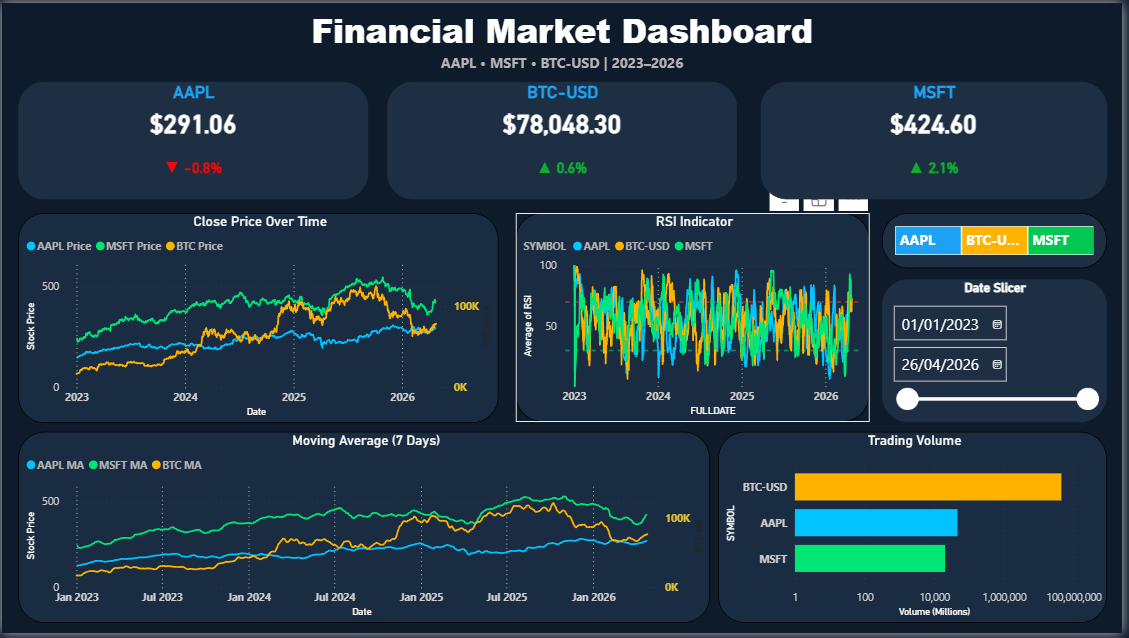

This screenshot's page, from the dashboard's own definition file:
{"tool":"powerbi","page":{"name":"Page 1","canvas":[1280,720],"ordinal":0},"visuals":[{"type":"textbox","box":[140,0,1000,90],"z":0},{"type":"lineChart","title":"Close Price Over Time","fields":{"Category":["DIM_DATE.FULLDATE"],"Y":["FACT_MARKET_TRADES.AAPL Price","FACT_MARKET_TRADES.MSFT Price"],"Y2":["FACT_MARKET_TRADES.BTC Price"]},"box":[18.6,240,548.6,240],"z":1000},{"type":"lineChart","title":"Moving Average (7 Days)","fields":{"Category":["DIM_DATE.FULLDATE"],"Y":["FACT_MARKET_TRADES.AAPL MA","FACT_MARKET_TRADES.MSFT MA"],"Y2":["FACT_MARKET_TRADES.BTC MA"]},"box":[18.6,490,790,218.6],"z":2000},{"type":"lineChart","title":"RSI Indicator","fields":{"Category":["DIM_DATE.FULLDATE"],"Y":["Avg(FACT_MARKET_TRADES.RSI)"],"Series":["DIM_STOCKS.SYMBOL"]},"box":[587.1,240,404.3,238.6],"z":3000},{"type":"barChart","title":"Trading Volume","fields":{"Category":["DIM_STOCKS.SYMBOL"],"Y":["FACT_MARKET_TRADES.Volume (Millions)"]},"box":[818.6,490,444.3,218.6],"z":4000},{"type":"cardVisual","title":"AAPL","fields":{"Data":["FACT_MARKET_TRADES.KPI 1 Price Only"]},"box":[18.6,90,400,134.3],"z":5000},{"type":"cardVisual","title":"BTC-USD","fields":{"Data":["FACT_MARKET_TRADES.KPI 1 Price Only"]},"box":[440,90,400,134.3],"z":6000},{"type":"cardVisual","title":"MSFT","fields":{"Data":["FACT_MARKET_TRADES.KPI 1 Price Only"]},"box":[867.1,90,395.7,134.3],"z":7000},{"type":"slicer","title":"Date Slicer","fields":{"Values":["DIM_DATE.FULLDATE"]},"box":[1005.7,315.7,257.1,162.9],"z":8000},{"type":"treemap","fields":{"Group":["DIM_STOCKS.SYMBOL"],"Values":["Count(DIM_STOCKS.SYMBOL)"]},"box":[1005.7,240,257.1,62.9],"z":9000}]}

Visuals, with their boxes in screenshot pixels (x1, y1, x2, y2), scaled from the page's 1280x720 canvas onto the 1129x638 screenshot:
textbox: (left=123, top=0, right=1006, bottom=80)
"Close Price Over Time" lineChart: (left=16, top=213, right=500, bottom=425)
"Moving Average (7 Days)" lineChart: (left=16, top=434, right=713, bottom=628)
"RSI Indicator" lineChart: (left=518, top=213, right=874, bottom=424)
"Trading Volume" barChart: (left=722, top=434, right=1114, bottom=628)
"AAPL" cardVisual: (left=16, top=80, right=369, bottom=199)
"BTC-USD" cardVisual: (left=388, top=80, right=741, bottom=199)
"MSFT" cardVisual: (left=765, top=80, right=1114, bottom=199)
"Date Slicer" slicer: (left=887, top=280, right=1114, bottom=424)
treemap - DIM_STOCKS.SYMBOL x Count(DIM_STOCKS.SYMBOL): (left=887, top=213, right=1114, bottom=268)
